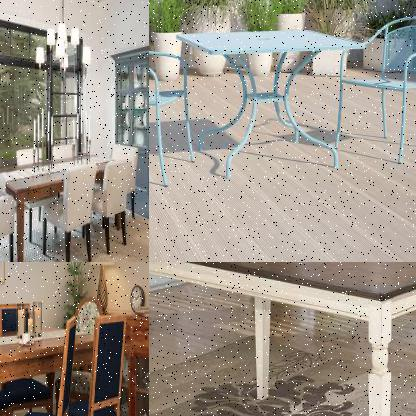table: (149, 262, 415, 415), (173, 26, 369, 180), (0, 147, 121, 261), (0, 319, 117, 415)
